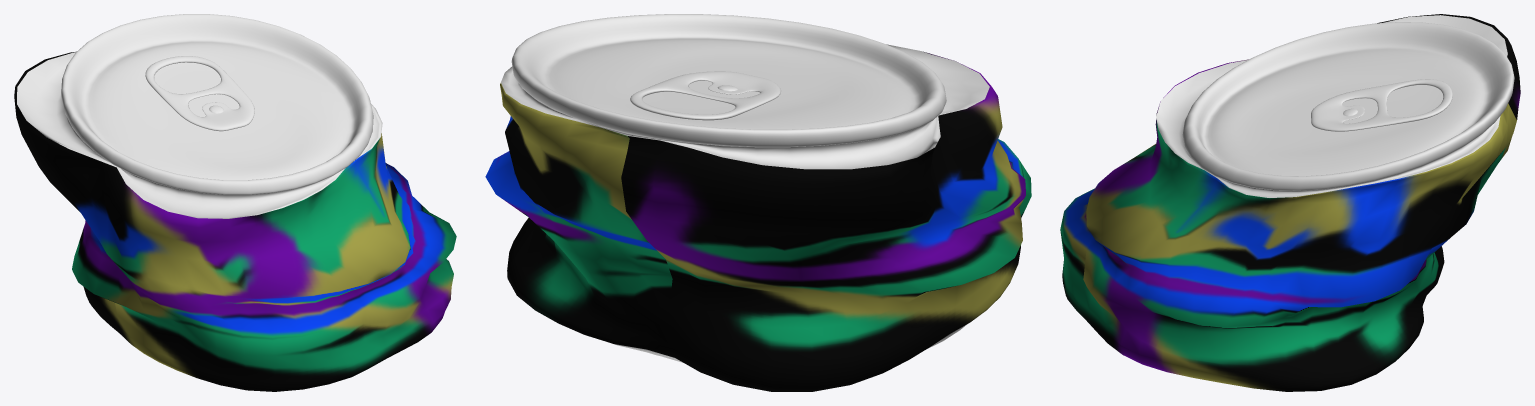
Rendered from canTrash.fbx.
3 views of the same model, side by side, from view 1: azimuth 30°, elevation 25°; view 2: azimuth 150°, elevation 25°; view 3: azimuth 270°, elevation 25° (orthographic). The views are drawn at different scales.
Visible parts, largest first — view 1: Cylinder.002; view 2: Cylinder.002; view 3: Cylinder.002.
Boxes of the visible parts, <box> form: Cylinder.002: <box>14,14,456,391</box>; Cylinder.002: <box>485,14,1031,391</box>; Cylinder.002: <box>1060,14,1520,391</box>.
Bounding box in the file's own units: 187 × 115 × 203.
